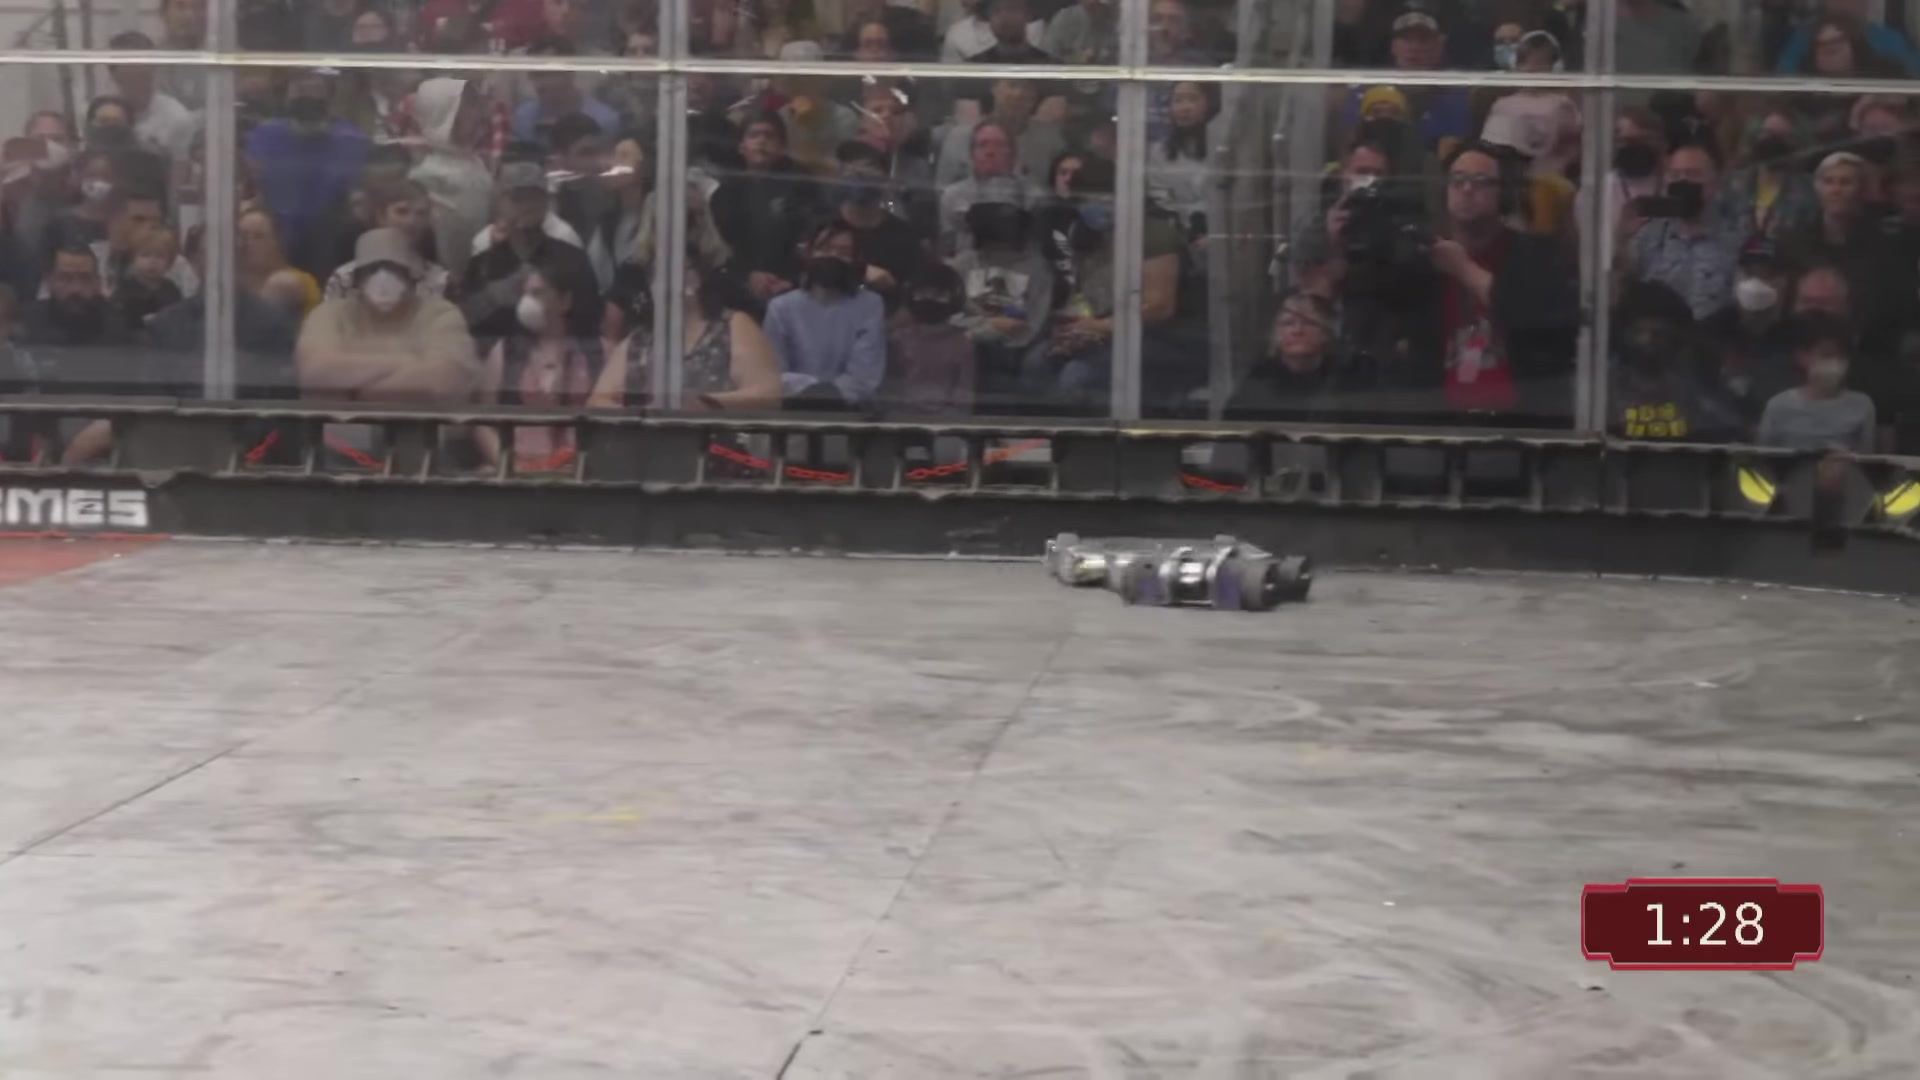combatbot: (1118, 546, 1316, 611), (1048, 521, 1271, 571)
